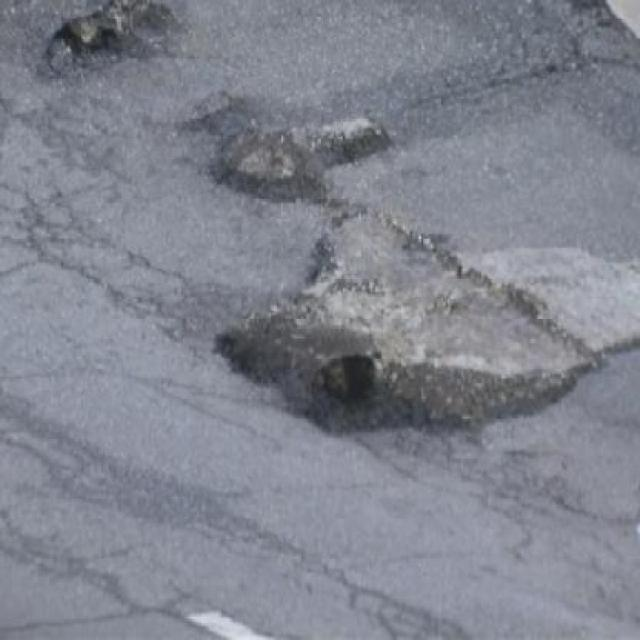pothole: (208, 210, 640, 447), (205, 114, 388, 203), (44, 2, 178, 78)
